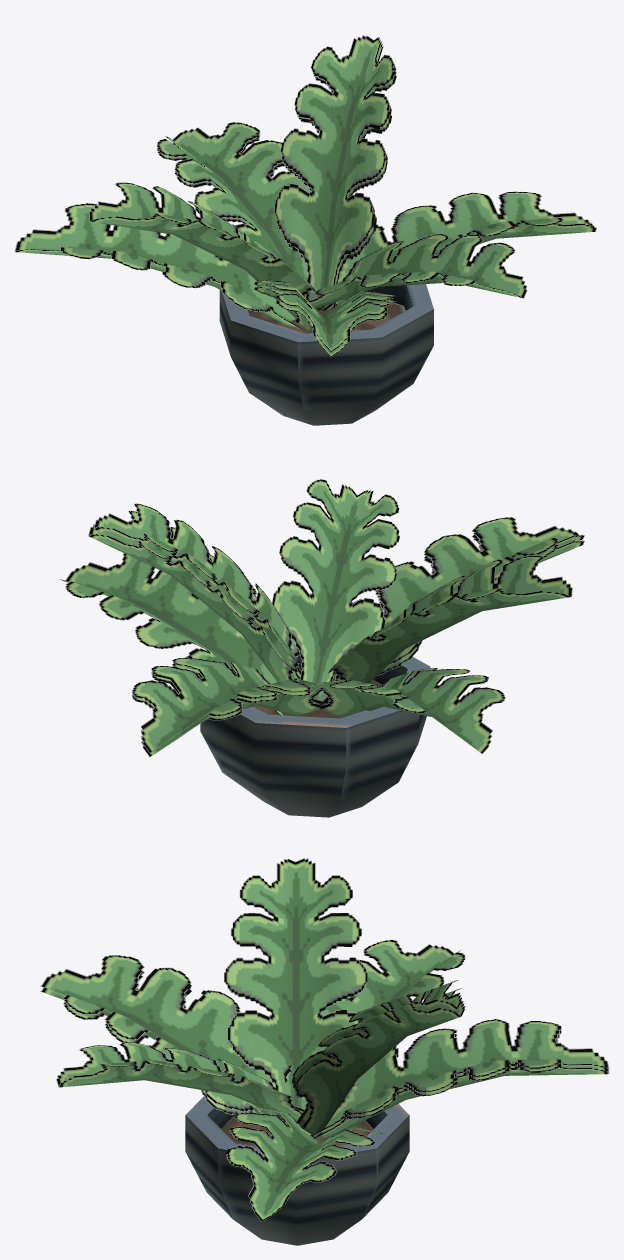
File: Fern_Plant2.FBX
3 views of the same model, one above another, from view 1: azimuth 30°, elevation 25°; view 2: azimuth 150°, elevation 25°; view 3: azimuth 270°, elevation 25° (orthographic). The views are drawn at different scales.
Visible parts, largest first — view 1: SA_Plant_Fern; view 2: SA_Plant_Fern; view 3: SA_Plant_Fern.
Boxes of the visible parts, <box> form: SA_Plant_Fern: <box>14,35,596,425</box>; SA_Plant_Fern: <box>59,479,584,817</box>; SA_Plant_Fern: <box>40,858,609,1245</box>.
Size of the model in its own units: 57.35 by 31.32 by 55.8.
